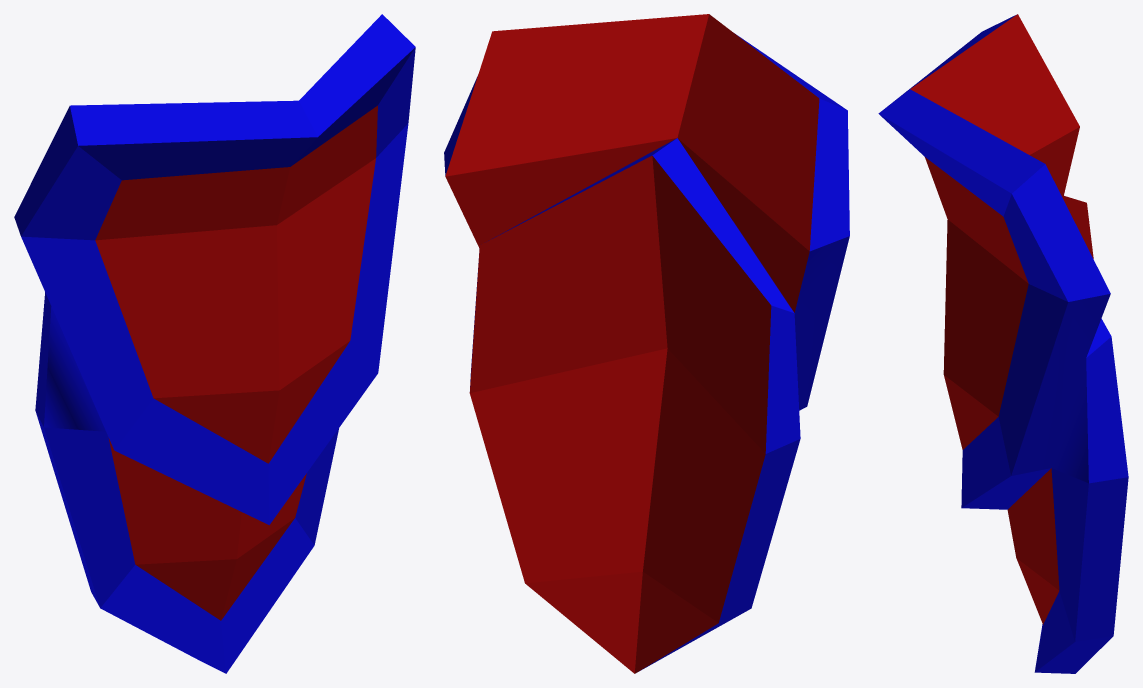
The model's file is Chr_KneeAttachLeft_Static_06.fbx.
3 renders of one model, left to right at view 1: azimuth 30°, elevation 25°; view 2: azimuth 150°, elevation 25°; view 3: azimuth 270°, elevation 25°, orthographic. The views are drawn at different scales.
Parts seen in each view (by area): view 1: Chr_KneeAttachLeft_06; view 2: Chr_KneeAttachLeft_06; view 3: Chr_KneeAttachLeft_06.
Part boxes in pixels (box(x1,y1,x2,y2)): Chr_KneeAttachLeft_06: box(14, 14, 415, 673); Chr_KneeAttachLeft_06: box(444, 14, 849, 673); Chr_KneeAttachLeft_06: box(878, 14, 1128, 673).
Size of the model in its own units: 15.83 by 23.22 by 8.94.
